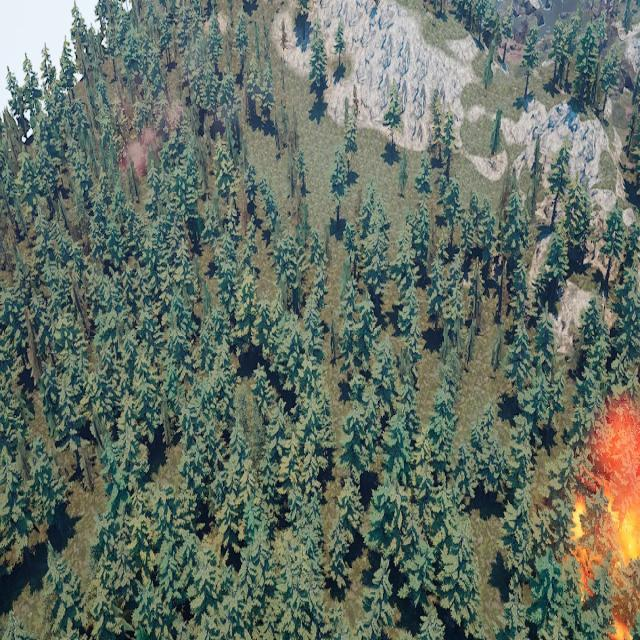fire: (573, 492, 640, 630), (606, 624, 630, 640)
smoke: (582, 384, 638, 505), (121, 99, 182, 178)
